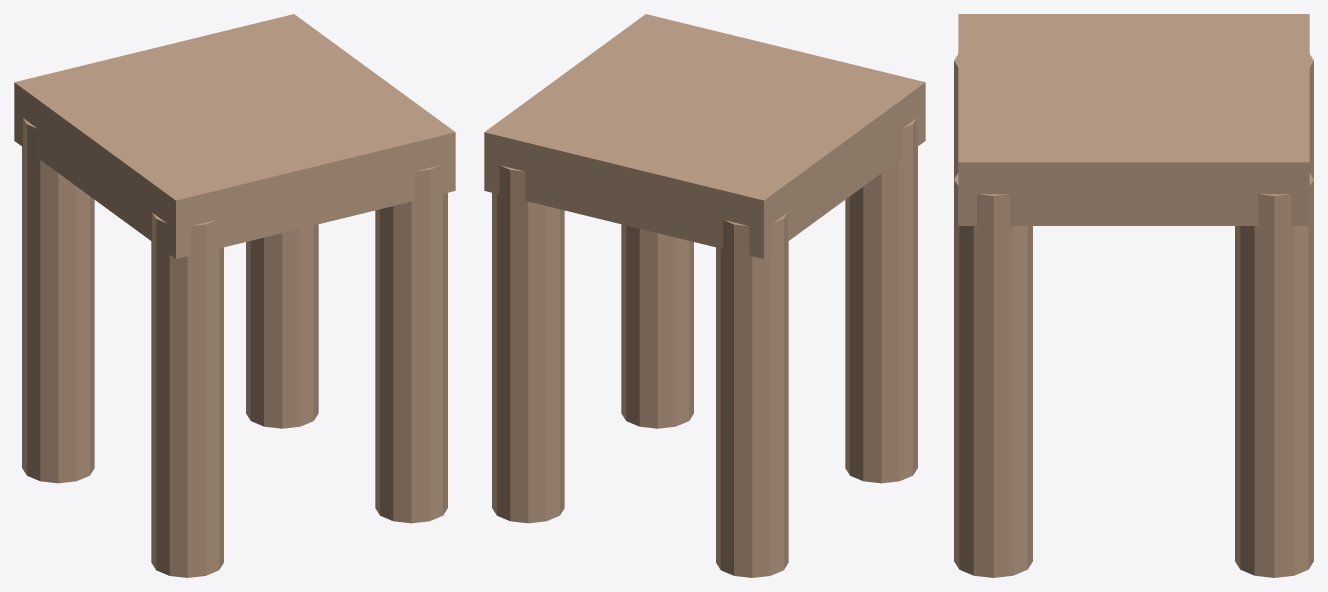
Rendered from stool.glb.
The picture shows the model from 3 angles, left to right: view 1: azimuth 30°, elevation 25°; view 2: azimuth 150°, elevation 25°; view 3: azimuth 270°, elevation 25°; orthographic projection. The views are drawn at different scales.
Visible parts, largest first — view 1: stool_000, stool_001, stool_003, stool_002, stool_004; view 2: stool_000, stool_002, stool_004, stool_001, stool_003; view 3: stool_000, stool_003, stool_004, stool_001, stool_002.
Boxes of the visible parts, bbox=[...] form: stool_000: bbox=[14, 14, 455, 258]; stool_001: bbox=[151, 212, 223, 577]; stool_003: bbox=[375, 165, 447, 523]; stool_002: bbox=[22, 118, 94, 483]; stool_004: bbox=[246, 224, 318, 428]; stool_000: bbox=[484, 14, 925, 258]; stool_002: bbox=[716, 212, 788, 577]; stool_004: bbox=[492, 165, 564, 523]; stool_001: bbox=[845, 118, 917, 483]; stool_003: bbox=[621, 224, 693, 428]; stool_000: bbox=[958, 14, 1309, 225]; stool_003: bbox=[954, 173, 1032, 577]; stool_004: bbox=[1235, 173, 1313, 577]; stool_001: bbox=[954, 54, 958, 178]; stool_002: bbox=[1309, 54, 1313, 178].
Bounding box in the file's own units: 0.41 × 0.52 × 0.41.
